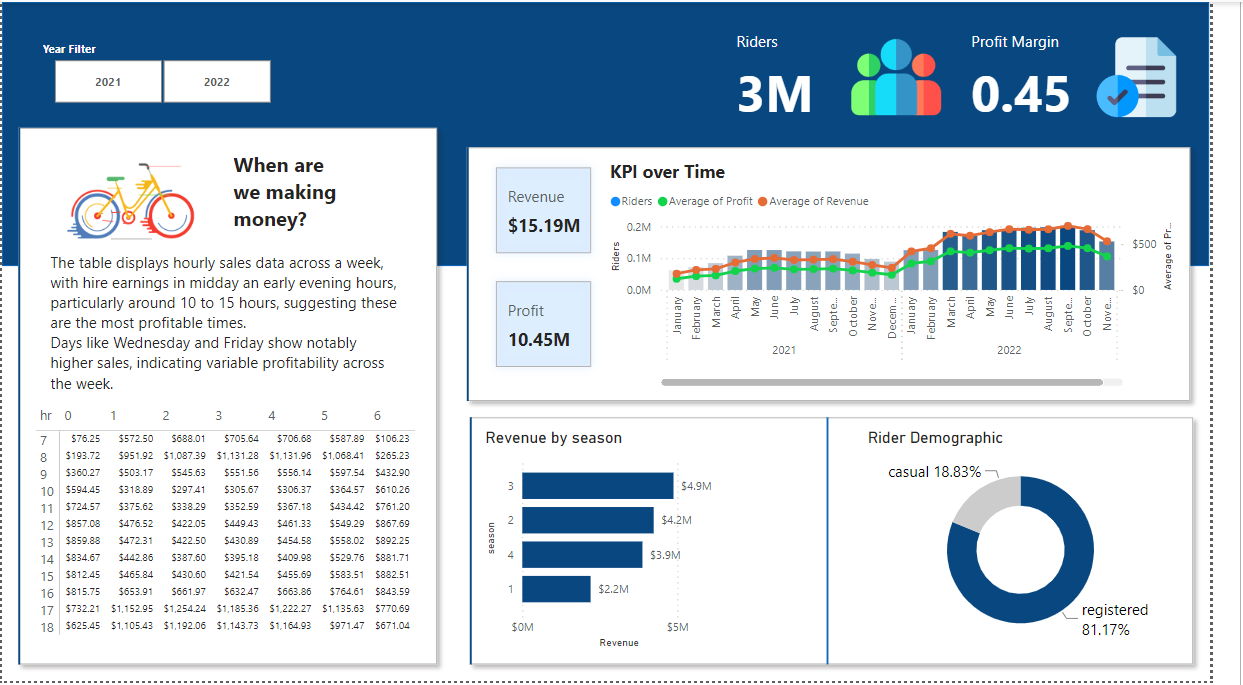

The dashboard page shown, as its layout file describes it:
{"tool":"powerbi","page":{"name":"Page 1","canvas":[1280,720],"ordinal":0},"visuals":[{"type":"shape","box":[0,0,1280,280],"z":0},{"type":"cardVisual","fields":{"Data":["Min(Bike_Data.riders)"]},"box":[0,116.7,478.3,603.3],"z":1000},{"type":"cardVisual","fields":{"Data":["Min(Bike_Data.riders)"]},"box":[475,136.7,801.7,303.3],"z":2000},{"type":"cardVisual","fields":{"Data":["Min(Bike_Data.riders)"]},"box":[478.3,423.3,801.7,296.7],"z":3000},{"type":"cardVisual","fields":{"Data":["Min(Bike_Data.riders)"]},"box":[30,140,210,140],"z":4000},{"type":"pivotTable","fields":{"Values":["Avg(Bike_Data.Revenue)"],"Columns":["Bike_Data.weekday"],"Rows":["Bike_Data.hr"]},"box":[30,423.3,418.3,255],"z":5000},{"type":"textbox","box":[240,151.7,136.7,120],"z":6000},{"type":"textbox","box":[46.7,260,380,160],"z":7000},{"type":"lineClusteredColumnComboChart","title":"KPI over Time","fields":{"Category":["Bike_Data.dteday.Variation.Date Hierarchy.Year","Bike_Data.dteday.Variation.Date Hierarchy.Month","Bike_Data.dteday.Variation.Date Hierarchy.Day"],"Y":["Sum(Bike_Data.riders)"],"Y2":["Avg(Bike_Data.Profit)","Avg(Bike_Data.Revenue)"]},"box":[640,166.7,606.7,245],"z":8000},{"type":"clusteredBarChart","fields":{"Category":["Bike_Data.season"],"Y":["Sum(Bike_Data.Revenue)"]},"box":[506.7,451.7,266.7,238.3],"z":9000},{"type":"donutChart","title":"Rider Demographic","fields":{"Category":["Bike_Data.rider_type"],"Y":["Sum(Bike_Data.riders)"]},"box":[913.3,451.7,333.3,238.3],"z":10000},{"type":"shape","box":[846.7,440,58.3,261.7],"z":11000},{"type":"cardVisual","title":"KPI over Time","fields":{"Data":["Sum(Bike_Data.Revenue)","Sum(Bike_Data.Profit)"]},"box":[506.7,158.3,133.3,245],"z":12000},{"type":"cardVisual","fields":{"Data":["Sum(Bike_Data.riders)","Bike_Data.Profit Margin"]},"box":[761.7,13.3,500,123.3],"z":13000},{"type":"slicer","fields":{"Values":["Bike_Data.Year"]},"box":[30,36.7,278.3,76.7],"z":14000}]}

Visuals, with their boxes in screenshot pixels (x1, y1, x2, y2), scaled from the page's 1280x720 canvas onto the 1243x685 screenshot:
shape: (x1=0, y1=0, x2=1242, y2=266)
cardVisual - Min(Bike_Data.riders): (x1=0, y1=111, x2=464, y2=684)
cardVisual - Min(Bike_Data.riders): (x1=461, y1=130, x2=1240, y2=419)
cardVisual - Min(Bike_Data.riders): (x1=464, y1=403, x2=1242, y2=684)
cardVisual - Min(Bike_Data.riders): (x1=29, y1=133, x2=233, y2=266)
pivotTable - Avg(Bike_Data.Revenue) x Bike_Data.weekday: (x1=29, y1=403, x2=435, y2=645)
textbox: (x1=233, y1=144, x2=366, y2=258)
textbox: (x1=45, y1=247, x2=414, y2=400)
"KPI over Time" lineClusteredColumnComboChart: (x1=622, y1=159, x2=1211, y2=392)
clusteredBarChart - Bike_Data.season x Sum(Bike_Data.Revenue): (x1=492, y1=430, x2=751, y2=656)
"Rider Demographic" donutChart: (x1=887, y1=430, x2=1211, y2=656)
shape: (x1=822, y1=419, x2=879, y2=668)
"KPI over Time" cardVisual: (x1=492, y1=151, x2=622, y2=384)
cardVisual - Sum(Bike_Data.riders) x Bike_Data.Profit Margin: (x1=740, y1=13, x2=1225, y2=130)
slicer - Bike_Data.Year: (x1=29, y1=35, x2=299, y2=108)
